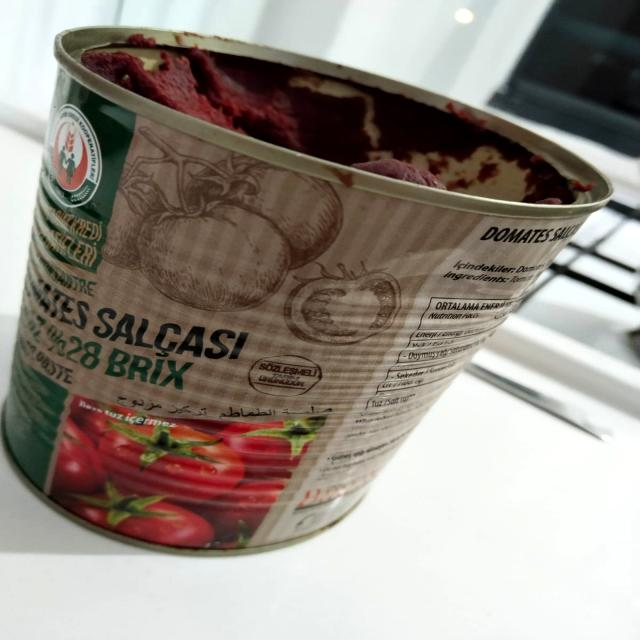tomato paste: (5, 12, 619, 574)
